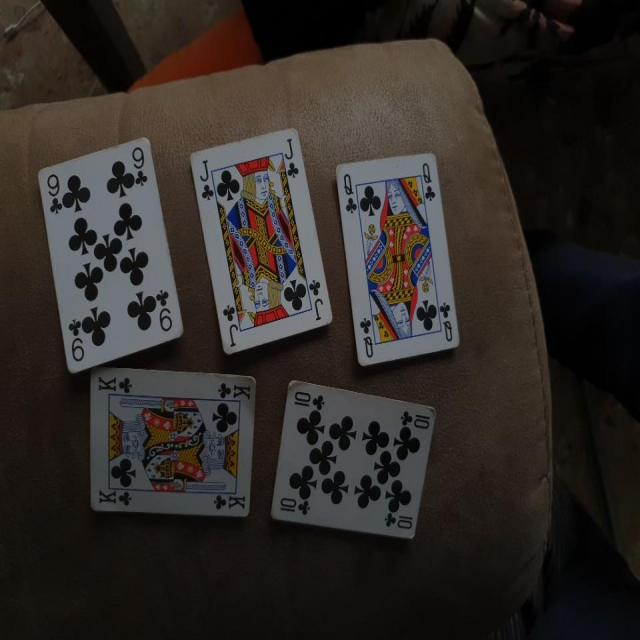10 Trefoils: (268, 377, 436, 540)
9 Trefoils: (32, 134, 184, 373)
J Trefoils: (188, 125, 333, 354)
K Trefoils: (85, 365, 258, 521)
Q Trefoils: (334, 152, 463, 365)
